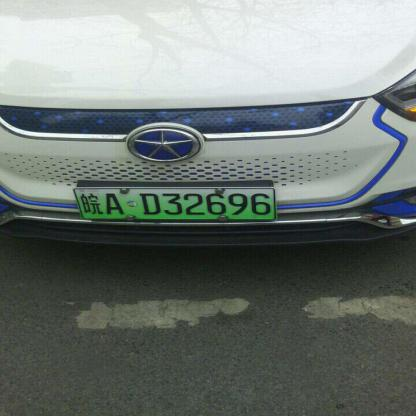lp: (74, 188, 274, 218)
